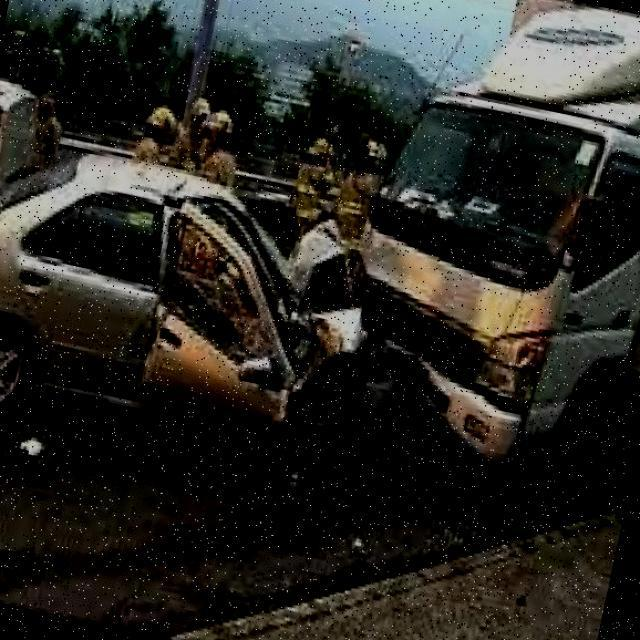accident: (66, 111, 605, 560)
